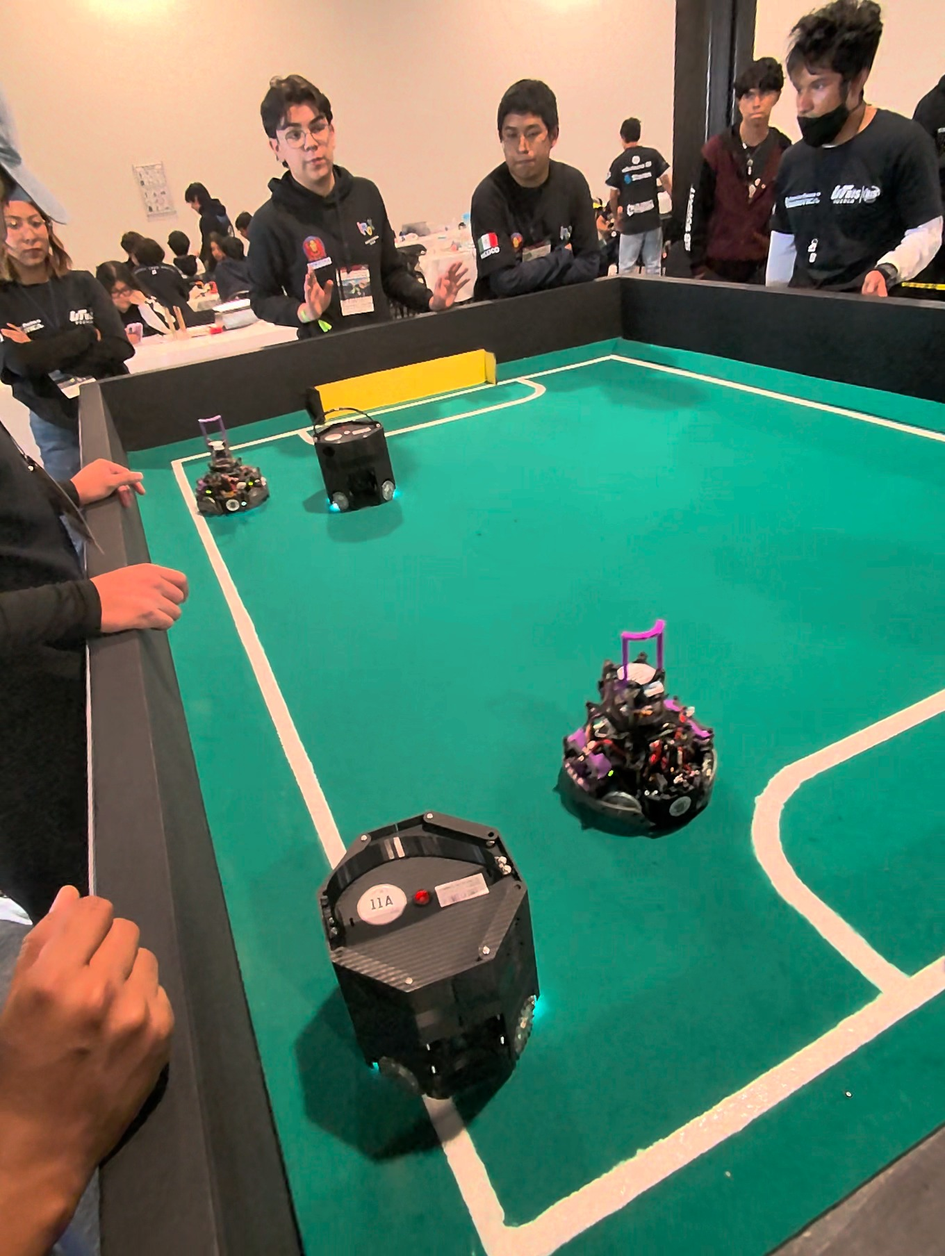Robot: (322, 815, 572, 1111), (561, 646, 718, 845), (301, 377, 417, 543), (193, 438, 272, 525)
